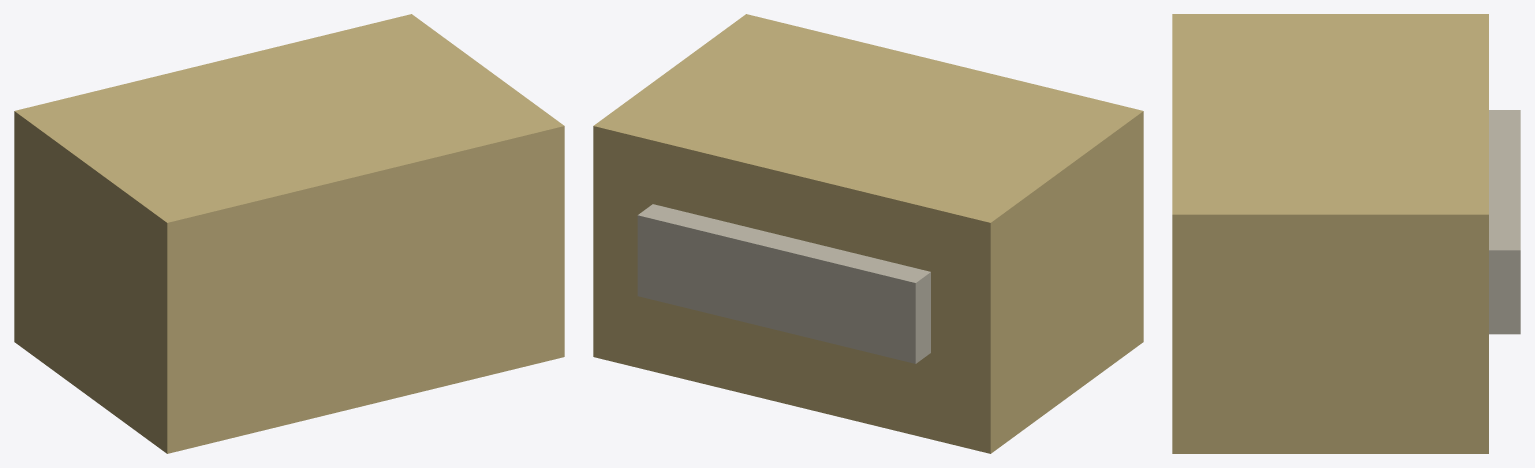
File: ammo_9mm.glb
3 views of the same model, side by side, from view 1: azimuth 30°, elevation 25°; view 2: azimuth 150°, elevation 25°; view 3: azimuth 270°, elevation 25° (orthographic). The views are drawn at different scales.
Visible parts, largest first — view 1: body; view 2: body; view 3: body.
Boxes of the visible parts, box(x1,y1,x2,y2) form: body: box(14, 14, 564, 453); body: box(593, 14, 1143, 453); body: box(1172, 14, 1520, 453).
Bounding box in the file's own units: 0.18 × 0.1 × 0.132.
